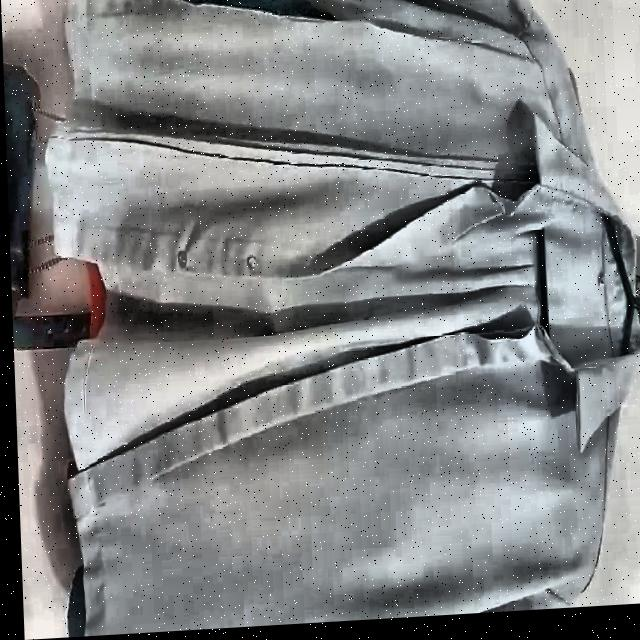clothes: (37, 0, 640, 638)
